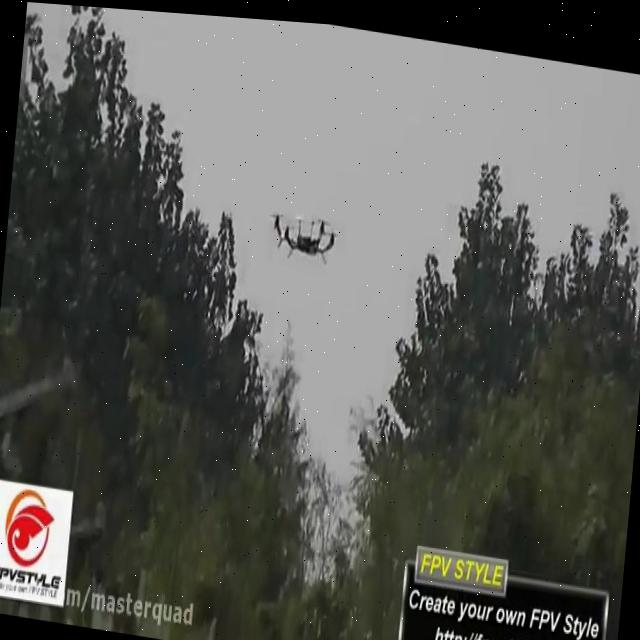drone: (264, 193, 342, 263)
